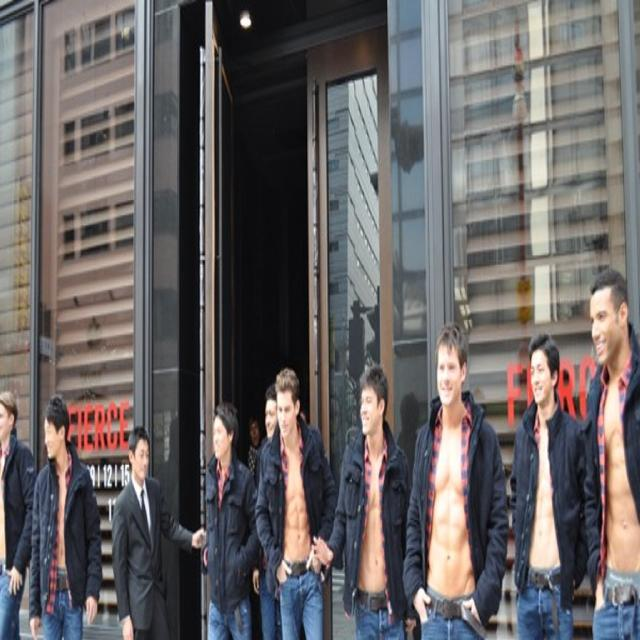body: (402, 321, 511, 639), (312, 365, 428, 639), (508, 330, 587, 639), (255, 365, 338, 639), (582, 264, 640, 638), (110, 420, 208, 639), (28, 394, 103, 638), (200, 399, 262, 640), (0, 390, 37, 639), (254, 382, 282, 640), (242, 418, 264, 473)
